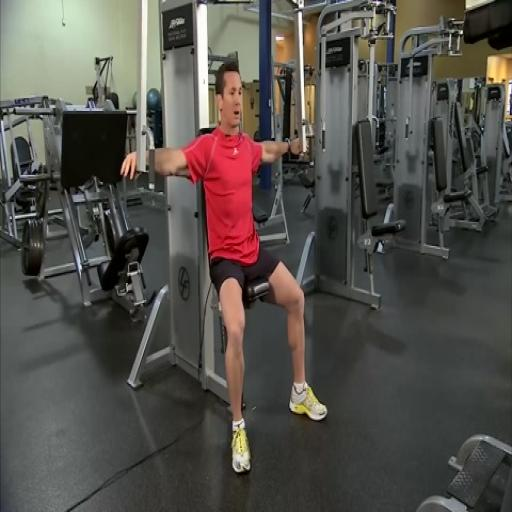exercise: (118, 60, 331, 476)
